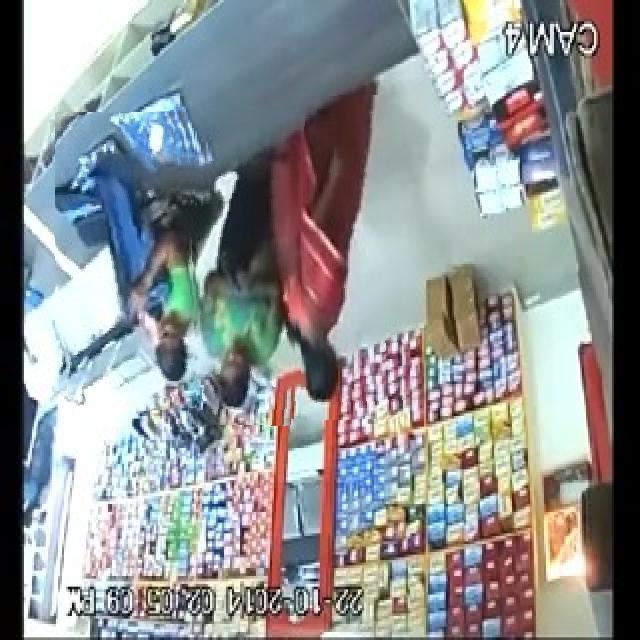Normal: (55, 112, 197, 414), (277, 96, 402, 420), (193, 105, 301, 425)
